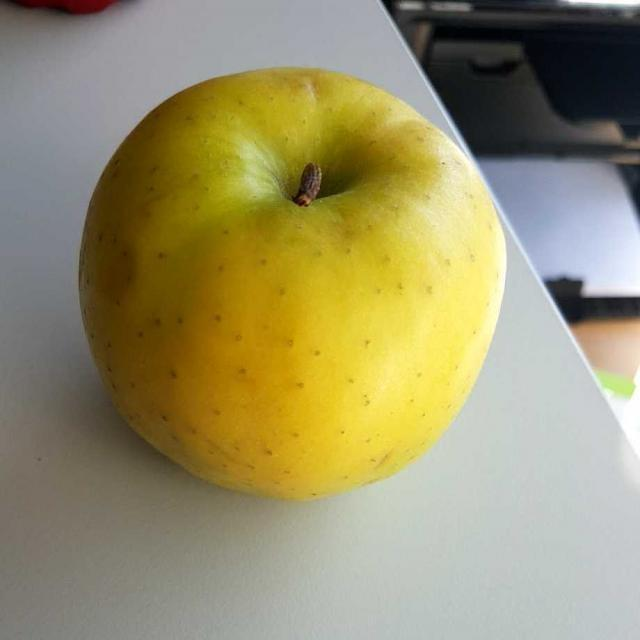apple: (82, 76, 489, 495)
